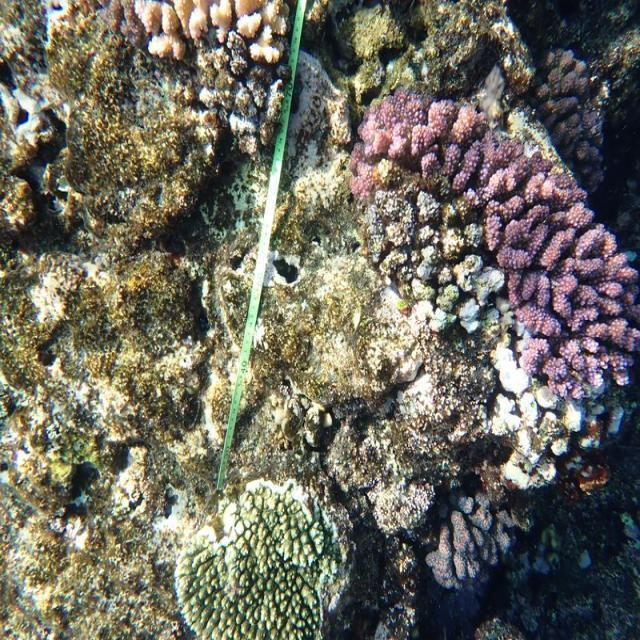Bleached Coral: (483, 366, 568, 506)
Healthy Coral: (351, 91, 635, 378), (165, 491, 338, 640)
